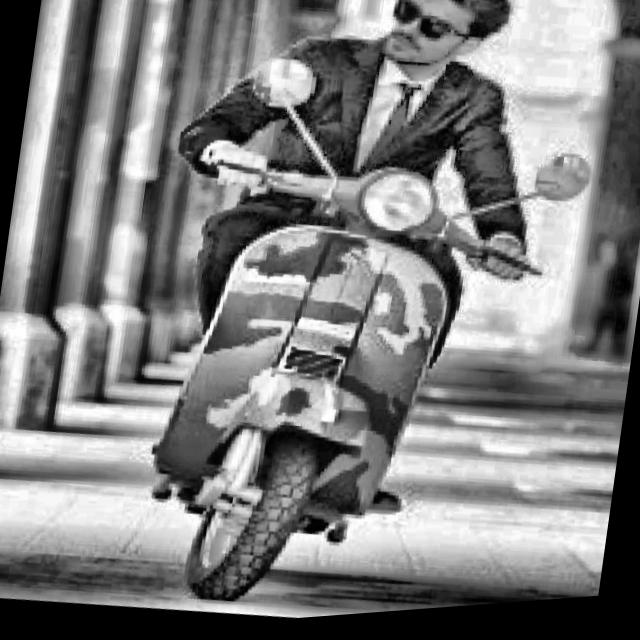motorcycle: (70, 21, 626, 636)
